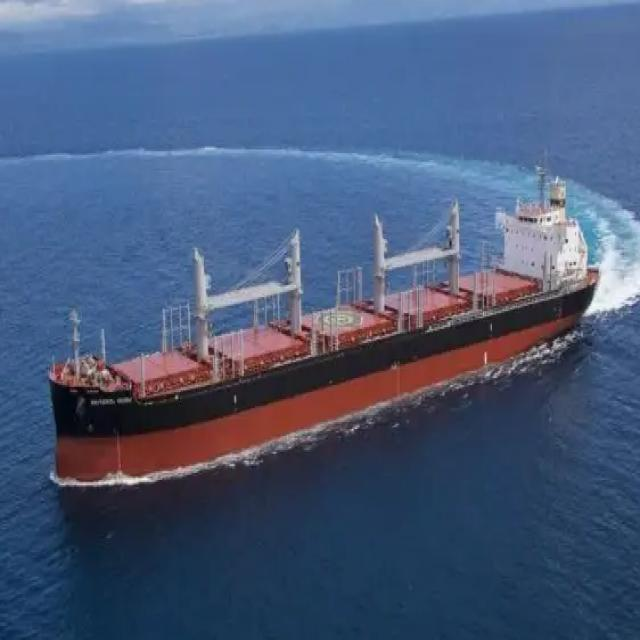cargoship: (42, 136, 597, 522)
